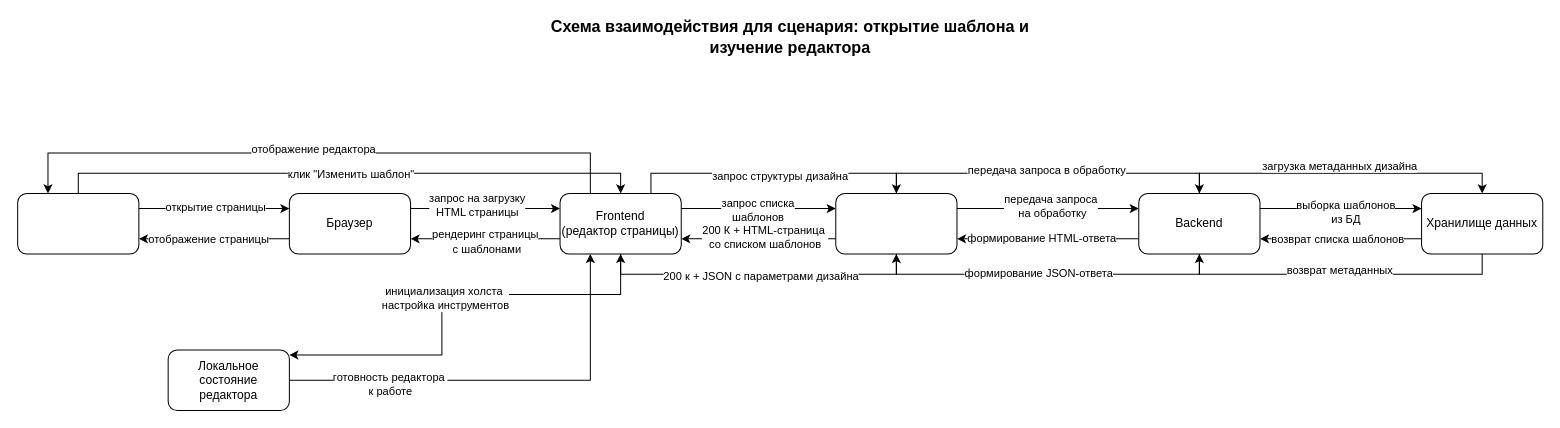
The diagram is 1560 pixels wide and 428 high, and some of its shapes have lost their labels. Here are the shapes that lost their labels. From the top down, the centre of each, then its label:
At pixel 78 223: "Пользователь".
At pixel 896 223: "API".
